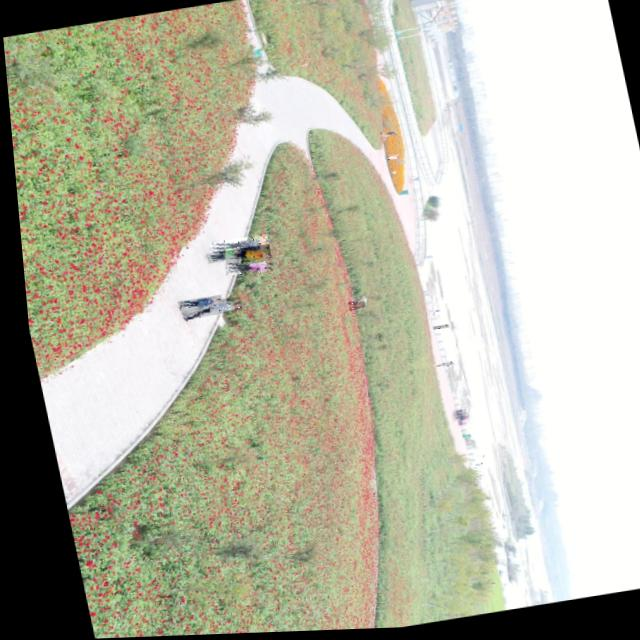Person: (203, 235, 264, 259), (173, 298, 236, 321), (218, 245, 266, 267), (218, 259, 267, 280), (170, 296, 216, 312), (198, 250, 236, 265), (340, 303, 359, 313), (378, 156, 396, 163), (425, 327, 442, 333), (424, 365, 441, 371), (376, 133, 392, 139), (426, 311, 437, 319), (405, 179, 418, 185), (434, 364, 448, 369), (460, 466, 474, 471)
